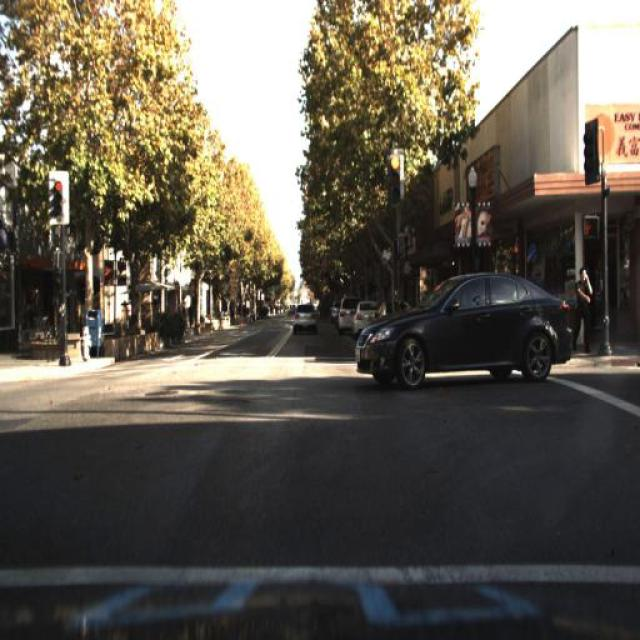car: (352, 261, 576, 391), (284, 287, 326, 344)
trafficLight: (573, 259, 595, 359)
trafficLight-RedLeft: (49, 170, 67, 222), (386, 148, 402, 204)
